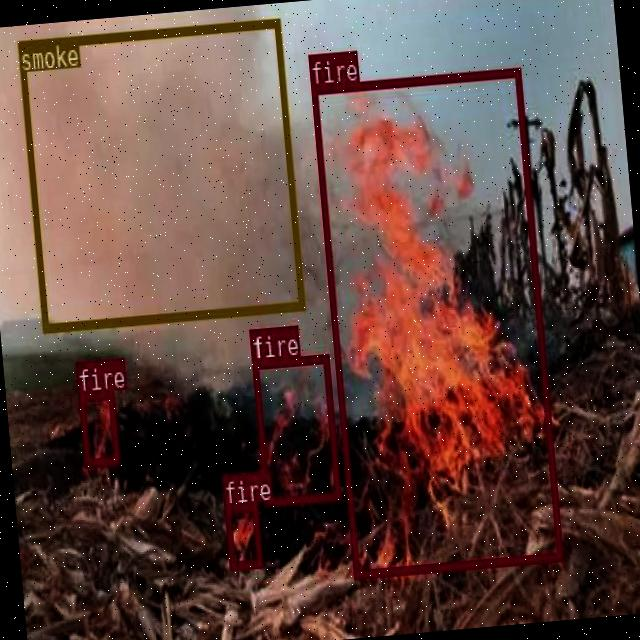fire: (309, 67, 562, 578), (250, 352, 340, 504), (77, 389, 118, 466), (224, 502, 261, 568)
smoke: (16, 16, 303, 330)
